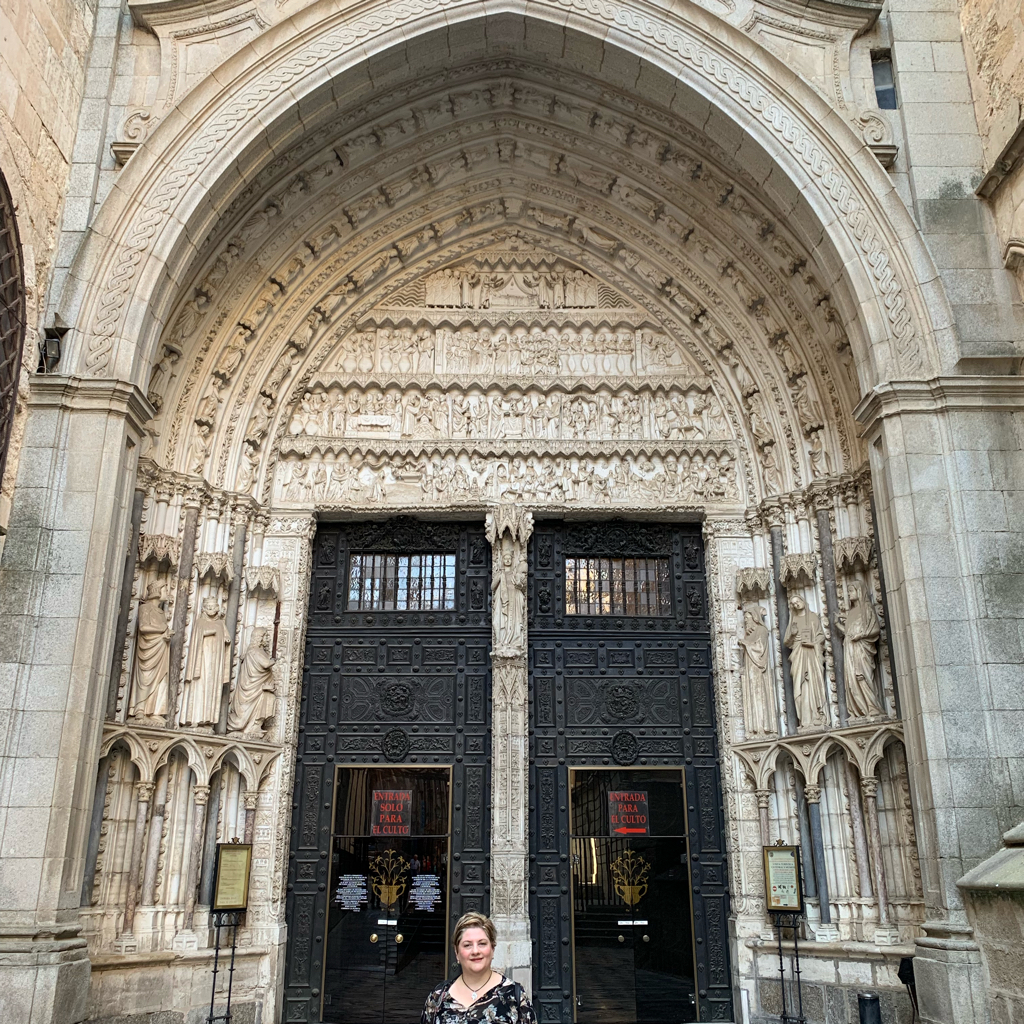arco-apuntado: (68, 1, 929, 403)
